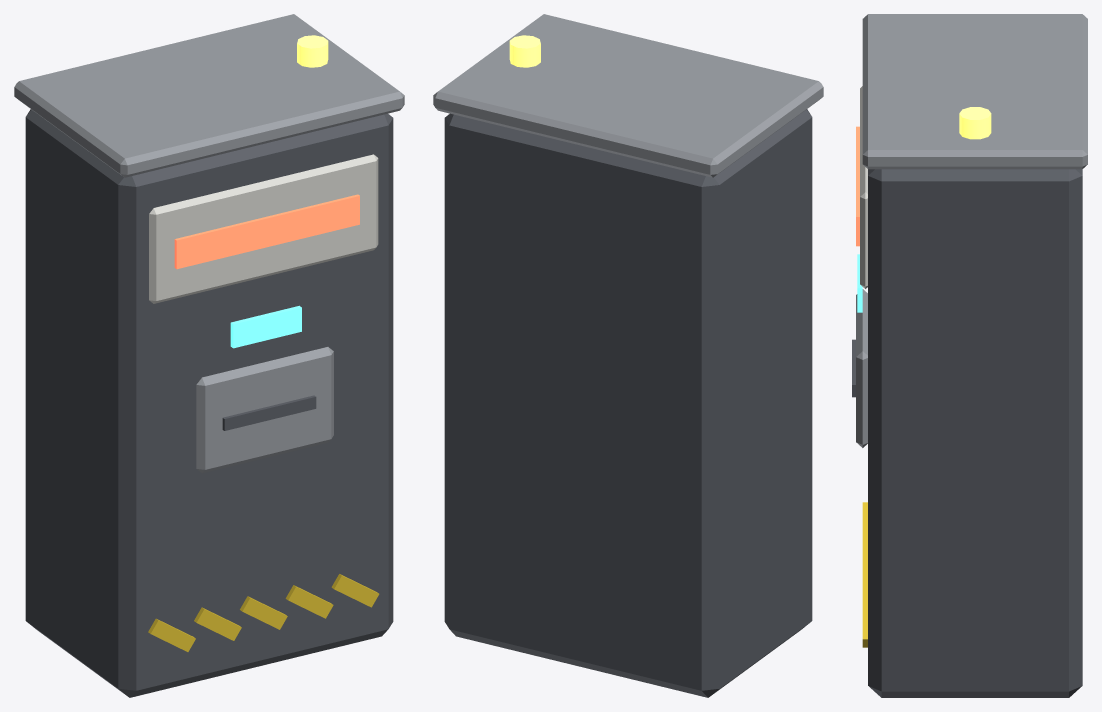
The model's file is garnisher_dispenser.glb.
3 views of the same model, side by side, from view 1: azimuth 30°, elevation 25°; view 2: azimuth 150°, elevation 25°; view 3: azimuth 270°, elevation 25° (orthographic).
Parts seen in each view (by area): view 1: garnisher_dispenser; view 2: garnisher_dispenser; view 3: garnisher_dispenser.
Boxes of the visible parts, <box> form: garnisher_dispenser: <box>14,14,404,697</box>; garnisher_dispenser: <box>433,14,823,697</box>; garnisher_dispenser: <box>852,14,1087,697</box>.
Bounding box in the file's own units: 1.24 × 2.36 × 0.88.
